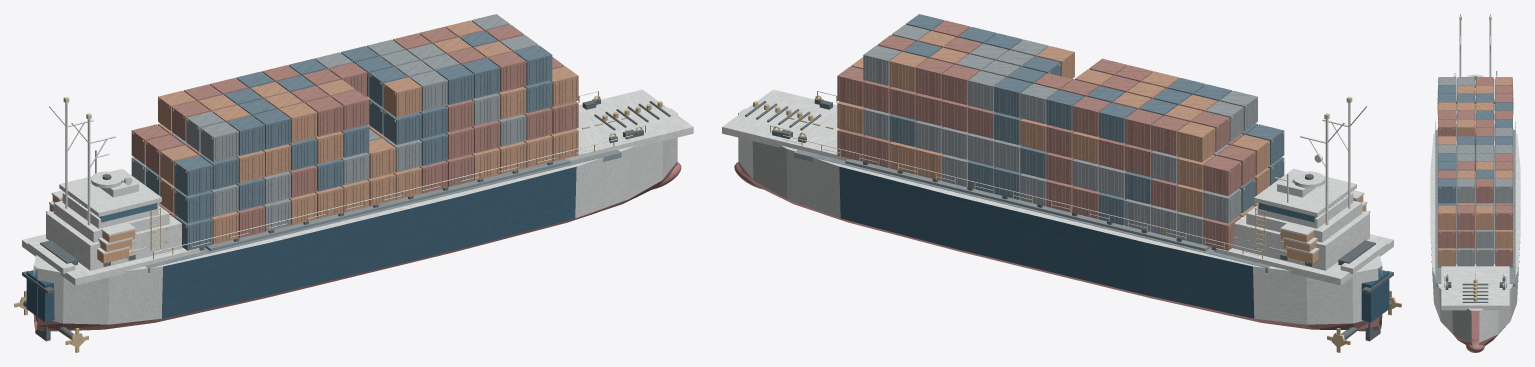
Rendered from cargo-ship.glb.
3 views of the same model, side by side, from view 1: azimuth 30°, elevation 25°; view 2: azimuth 150°, elevation 25°; view 3: azimuth 270°, elevation 25° (orthographic). The views are drawn at different scales.
Parts seen in each view (by area): view 1: Container stacks, Hull shell, Container corrugation, Deck & cargo fittings, Aft bridge & accommodation, Bow, stern & mooring, Deck railings & safety, Funnels, masts & vents, Propulsion & rudder, Bridge glazing & navigation; view 2: Container stacks, Hull shell, Container corrugation, Deck & cargo fittings, Aft bridge & accommodation, Bow, stern & mooring, Deck railings & safety, Funnels, masts & vents, Propulsion & rudder, Bridge glazing & navigation; view 3: Container stacks, Deck & cargo fittings, Hull shell, Container corrugation, Bow, stern & mooring, Funnels, masts & vents, Deck railings & safety, Aft bridge & accommodation, Container fittings, Bridge glazing & navigation.
Part boxes in pixels (<box>): Container stacks: <box>131,14,578,250</box>; Hull shell: <box>33,108,677,331</box>; Container corrugation: <box>189,57,576,248</box>; Deck & cargo fittings: <box>22,89,693,285</box>; Aft bridge & accommodation: <box>46,169,182,270</box>; Bow, stern & mooring: <box>22,95,681,322</box>; Deck railings & safety: <box>108,91,645,263</box>; Funnels, masts & vents: <box>48,103,115,224</box>; Propulsion & rudder: <box>14,290,88,352</box>; Bridge glazing & navigation: <box>63,97,136,253</box>; Container stacks: <box>837,14,1284,250</box>; Hull shell: <box>738,108,1382,331</box>; Container corrugation: <box>839,57,1226,248</box>; Deck & cargo fittings: <box>722,89,1393,285</box>; Aft bridge & accommodation: <box>1233,168,1370,270</box>; Bow, stern & mooring: <box>734,95,1393,322</box>; Deck railings & safety: <box>770,91,1307,263</box>; Funnels, masts & vents: <box>1274,103,1367,224</box>; Propulsion & rudder: <box>1327,290,1401,352</box>; Bridge glazing & navigation: <box>1280,96,1352,253</box>; Container stacks: <box>1438,77,1512,266</box>; Deck & cargo fittings: <box>1435,130,1515,310</box>; Hull shell: <box>1430,127,1520,345</box>; Container corrugation: <box>1438,79,1512,264</box>; Bow, stern & mooring: <box>1445,274,1505,352</box>; Funnels, masts & vents: <box>1459,14,1497,170</box>; Deck railings & safety: <box>1435,121,1515,287</box>; Aft bridge & accommodation: <box>1437,79,1513,141</box>; Container fittings: <box>1439,128,1511,251</box>; Bridge glazing & navigation: <box>1453,16,1491,109</box>.
Size of the model in its own units: 22.22 by 7.31 by 4.06.
Materials: 14 (14 with a texture image).
